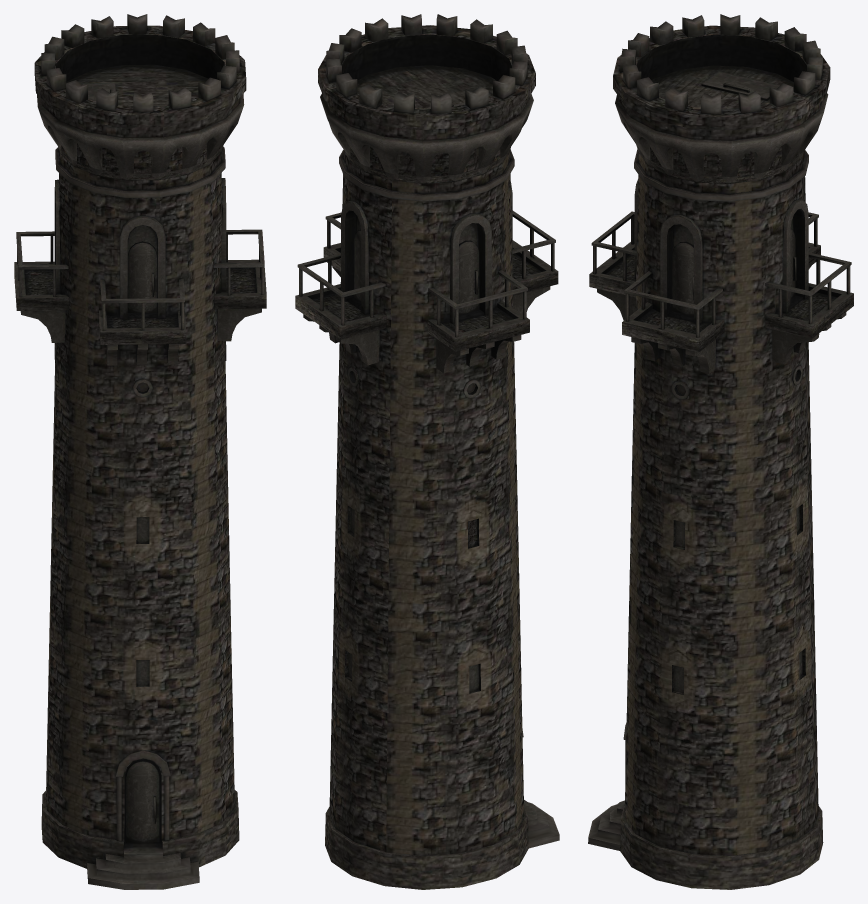
File: kickelhahn_tower.glb
3 renders of one model, left to right at view 1: azimuth 30°, elevation 25°; view 2: azimuth 150°, elevation 25°; view 3: azimuth 270°, elevation 25°, orthographic.
Visible parts, largest first — view 1: KH_TowerHigh.003; view 2: KH_TowerHigh.003; view 3: KH_TowerHigh.003.
Part boxes in pixels (bbox=[...]): KH_TowerHigh.003: bbox=[14, 14, 266, 889]; KH_TowerHigh.003: bbox=[295, 14, 559, 889]; KH_TowerHigh.003: bbox=[588, 14, 853, 889].
Size of the model in its own units: 7.29 by 24.03 by 7.33.
Materials: 1 (1 with a texture image).
